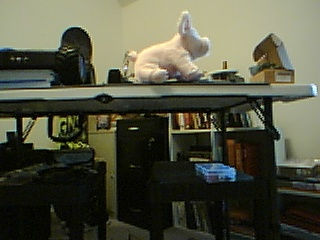piggy: (125, 9, 213, 84)
